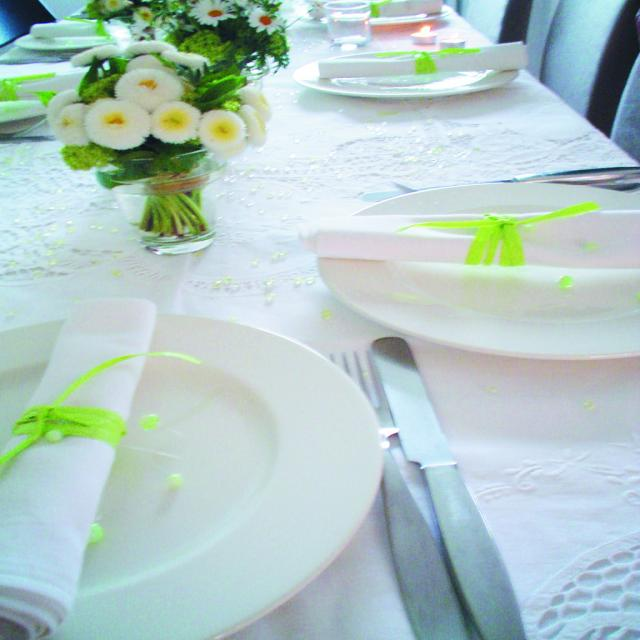non-organic waste: (0, 297, 397, 640), (265, 167, 640, 402)
